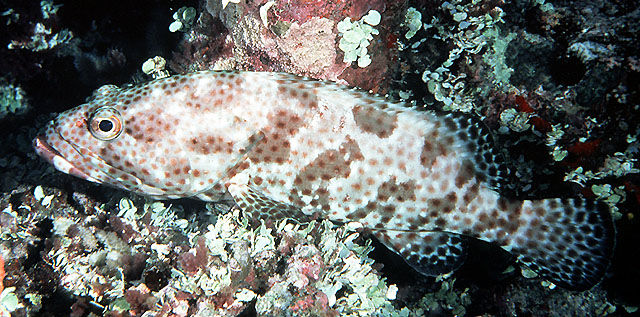fish: (32, 69, 607, 290)
